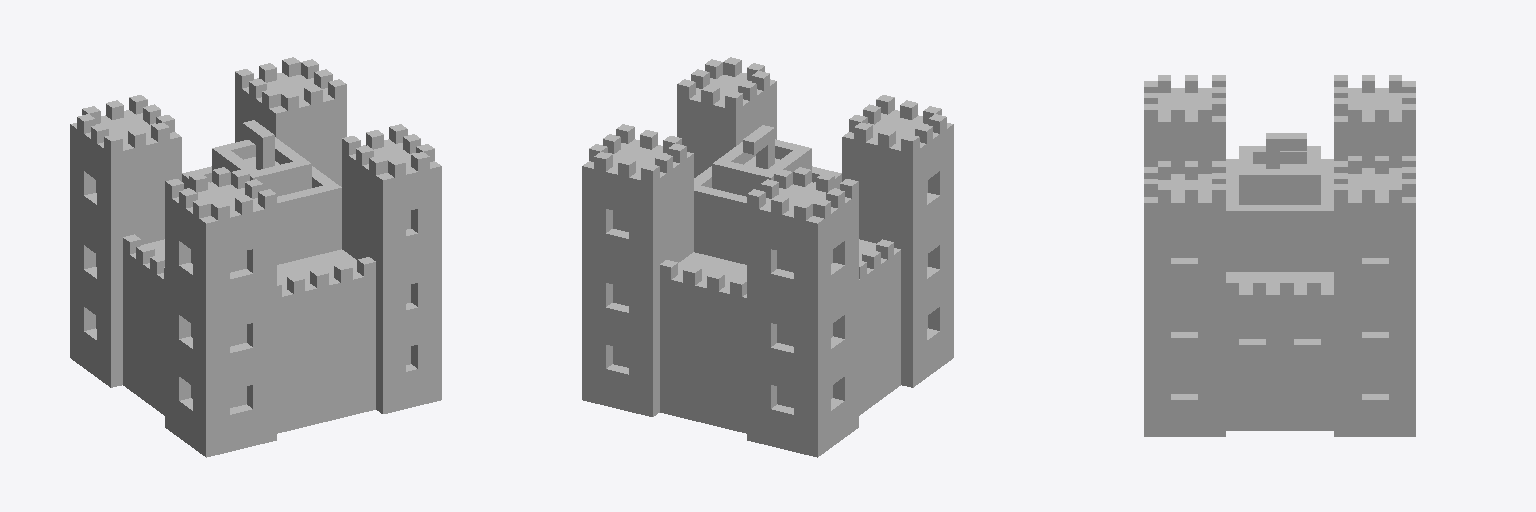
The model's file is castle.obj.
The picture shows the model from 3 angles: view 1: azimuth 30°, elevation 25°; view 2: azimuth 150°, elevation 25°; view 3: azimuth 270°, elevation 25°; orthographic projection.
Parts seen in each view (by area): view 1: object 1; view 2: object 1; view 3: object 1.
Part boxes in pixels (bbox=[...]): object 1: bbox=[70, 57, 441, 457]; object 1: bbox=[582, 57, 953, 457]; object 1: bbox=[1144, 75, 1415, 436].
Bounding box in the file's own units: 2 × 2 × 2.